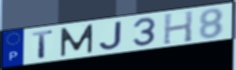3: (132, 16, 157, 48)
8: (198, 7, 227, 40)
H: (162, 9, 195, 46)
J: (98, 20, 124, 51)
M: (59, 23, 95, 58)
T: (31, 29, 55, 60)
